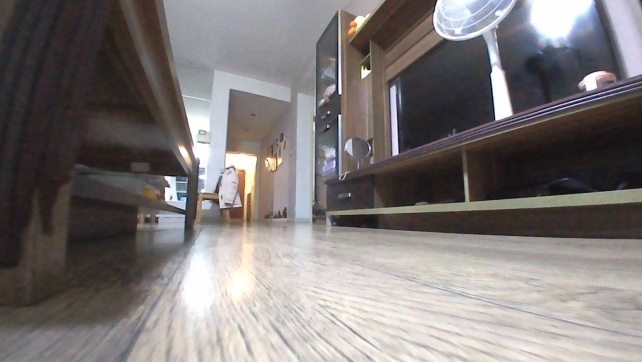TV_stand: (320, 70, 641, 242)
wire: (337, 169, 351, 182)
